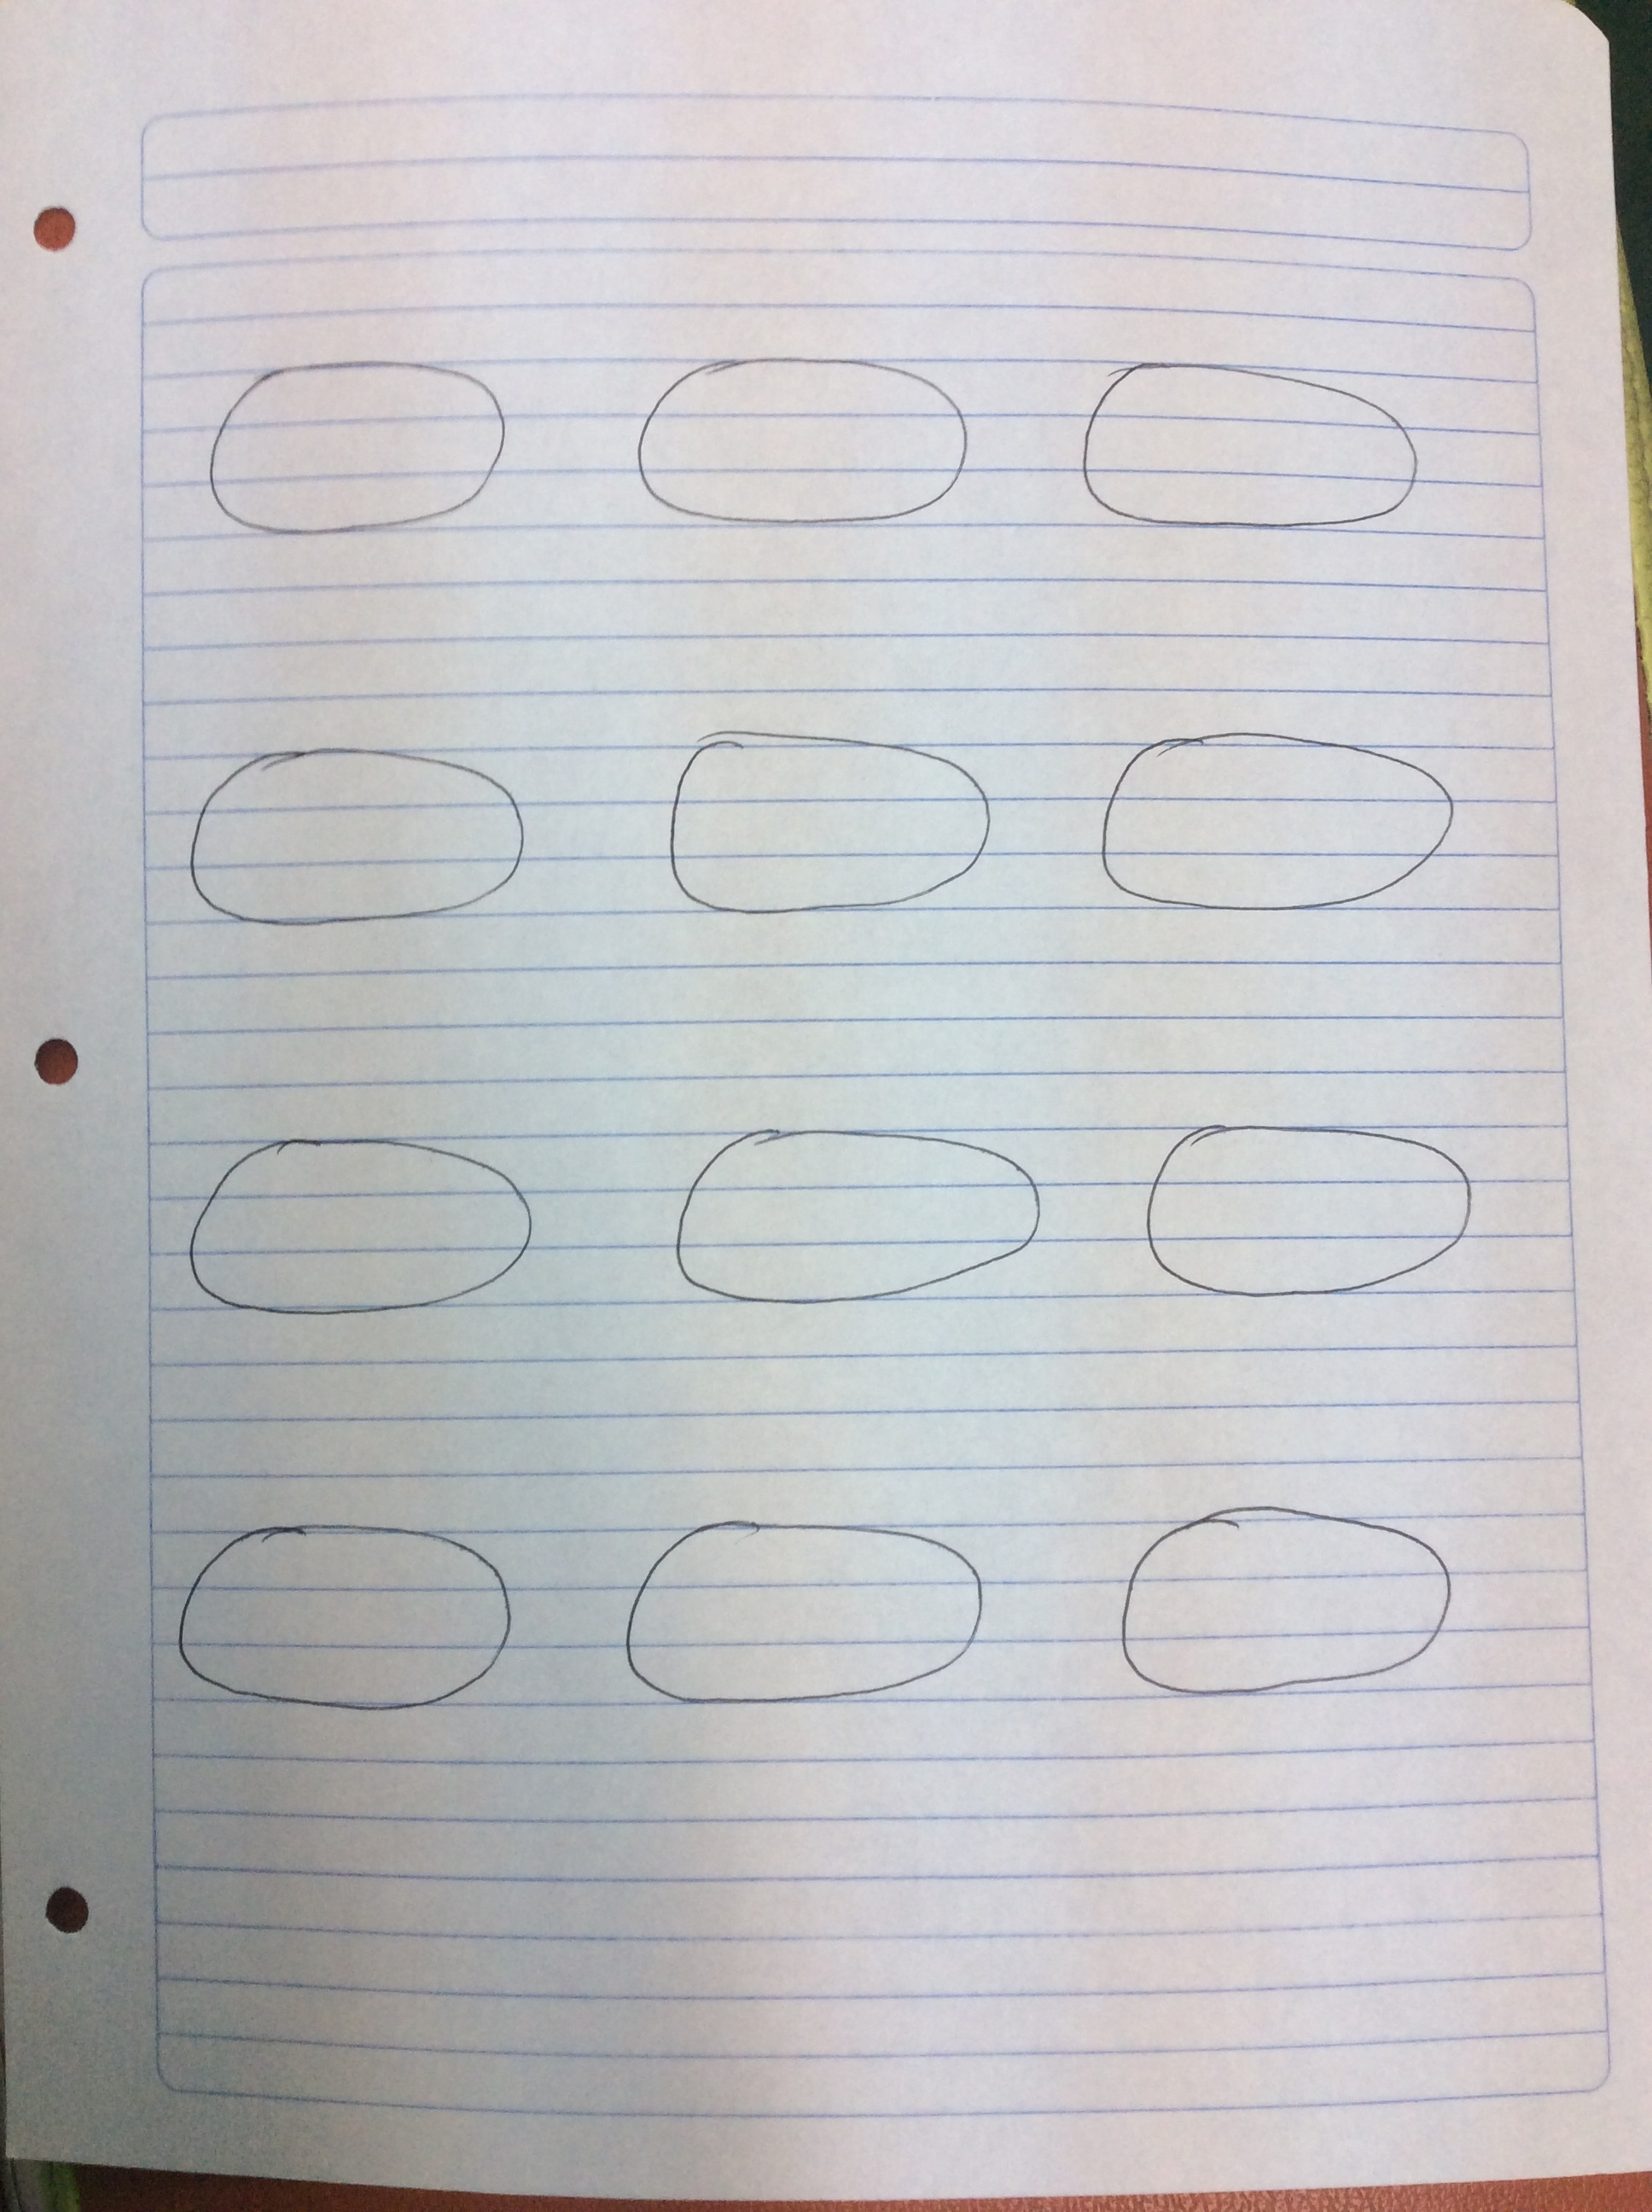start_end: (153, 1478, 541, 1754), (1067, 689, 1494, 935), (1074, 1485, 1484, 1728), (609, 1478, 1001, 1724), (633, 692, 1012, 946), (161, 717, 566, 952), (637, 1109, 1067, 1327), (165, 1107, 562, 1334), (1118, 1090, 1513, 1317), (595, 335, 984, 553), (1053, 338, 1439, 557), (168, 335, 531, 546)
